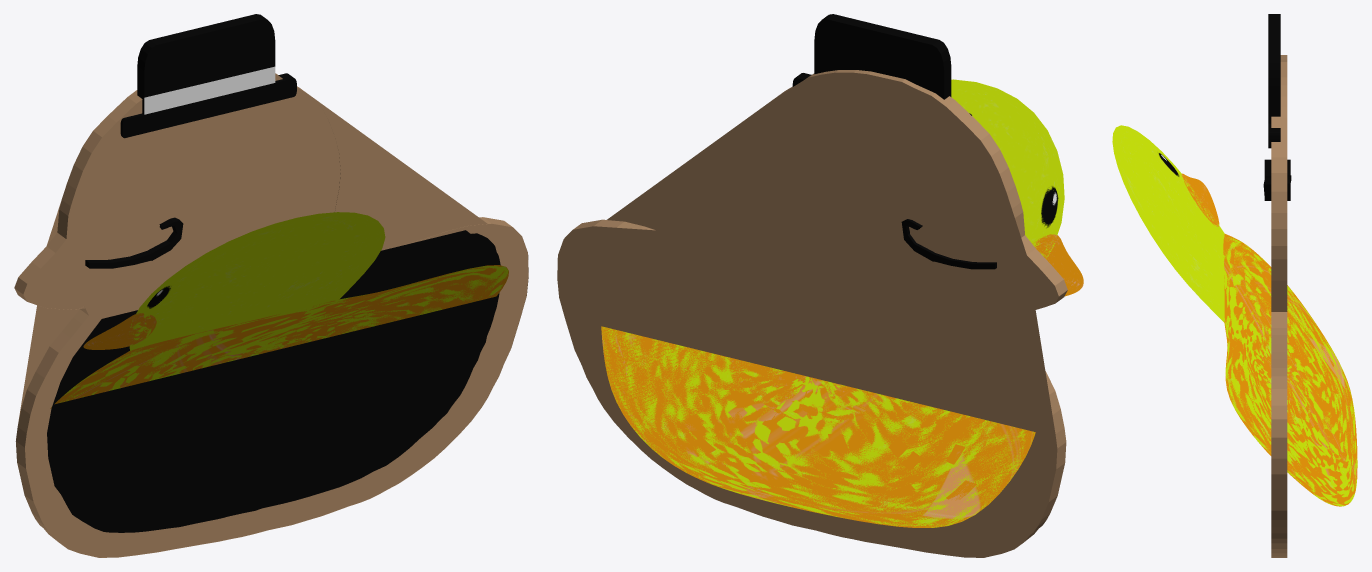
File: alcalde.fbx
The picture shows the model from 3 angles, left to right: view 1: azimuth 30°, elevation 25°; view 2: azimuth 150°, elevation 25°; view 3: azimuth 270°, elevation 25°; orthographic projection. The views are drawn at different scales.
Parts seen in each view (by area): view 1: Carton, Traje, Pato, Bombin, Cube; view 2: Carton, Pato, Bombin, Cube; view 3: Pato, Carton, Bombin, Cube.
Part boxes in pixels (left/top/right/bottom): Carton: left=14, top=73, right=528, bottom=557; Traje: left=47, top=230, right=500, bottom=532; Pato: left=50, top=212, right=508, bottom=408; Bombin: left=120, top=14, right=296, bottom=138; Cube: left=85, top=217, right=183, bottom=268; Carton: left=557, top=70, right=1067, bottom=557; Pato: left=601, top=79, right=1083, bottom=527; Bombin: left=792, top=14, right=971, bottom=115; Cube: left=901, top=219, right=996, bottom=269; Pato: left=1112, top=125, right=1357, bottom=506; Carton: left=1271, top=55, right=1287, bottom=557; Bombin: left=1268, top=14, right=1280, bottom=148; Cube: left=1263, top=159, right=1291, bottom=200.
Bounding box in the file's own units: 144 × 140 × 68.88.
6 materials, 2 textured.
